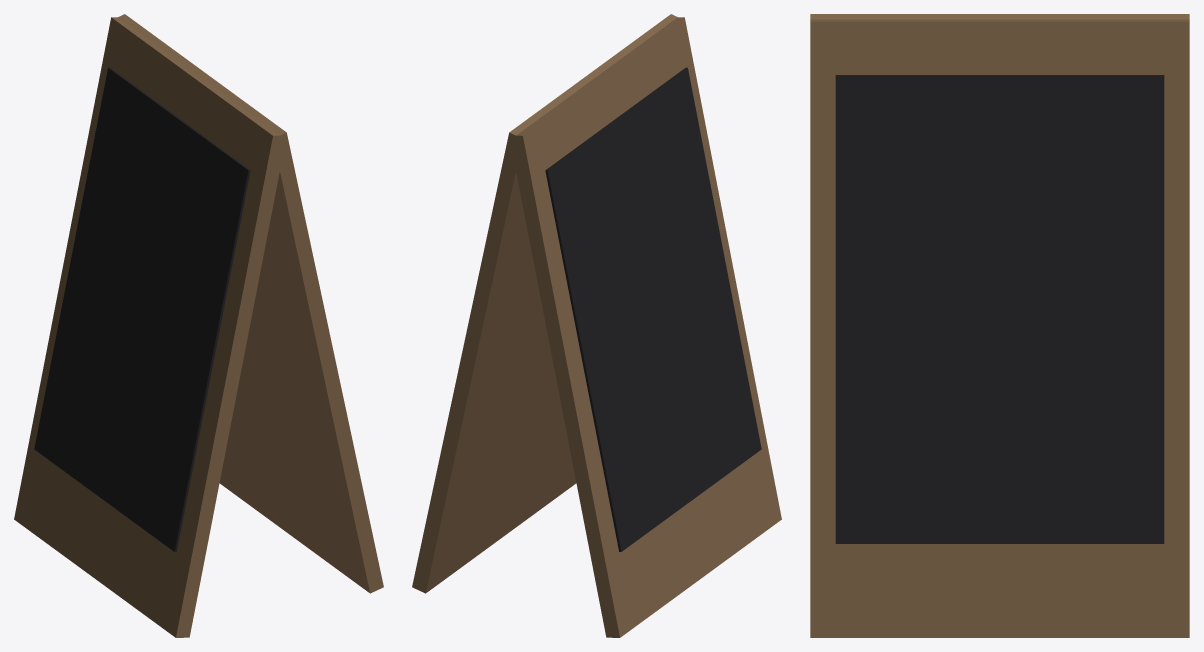
The model's file is SM_Prop_cafe_aboard_0_LOD1.glb.
3 views of the same model, side by side, from view 1: azimuth 30°, elevation 25°; view 2: azimuth 150°, elevation 25°; view 3: azimuth 270°, elevation 25° (orthographic). The views are drawn at different scales.
Parts seen in each view (by area): view 1: SM_Prop_cafe_aboard_0_LOD1; view 2: SM_Prop_cafe_aboard_0_LOD1; view 3: SM_Prop_cafe_aboard_0_LOD1.
Boxes of the visible parts, x1,y1,x2,y2 form: SM_Prop_cafe_aboard_0_LOD1: [14, 14, 383, 637]; SM_Prop_cafe_aboard_0_LOD1: [412, 14, 781, 637]; SM_Prop_cafe_aboard_0_LOD1: [810, 14, 1189, 637].
Size of the model in its own units: 0.4452 by 0.9844 by 0.6.
